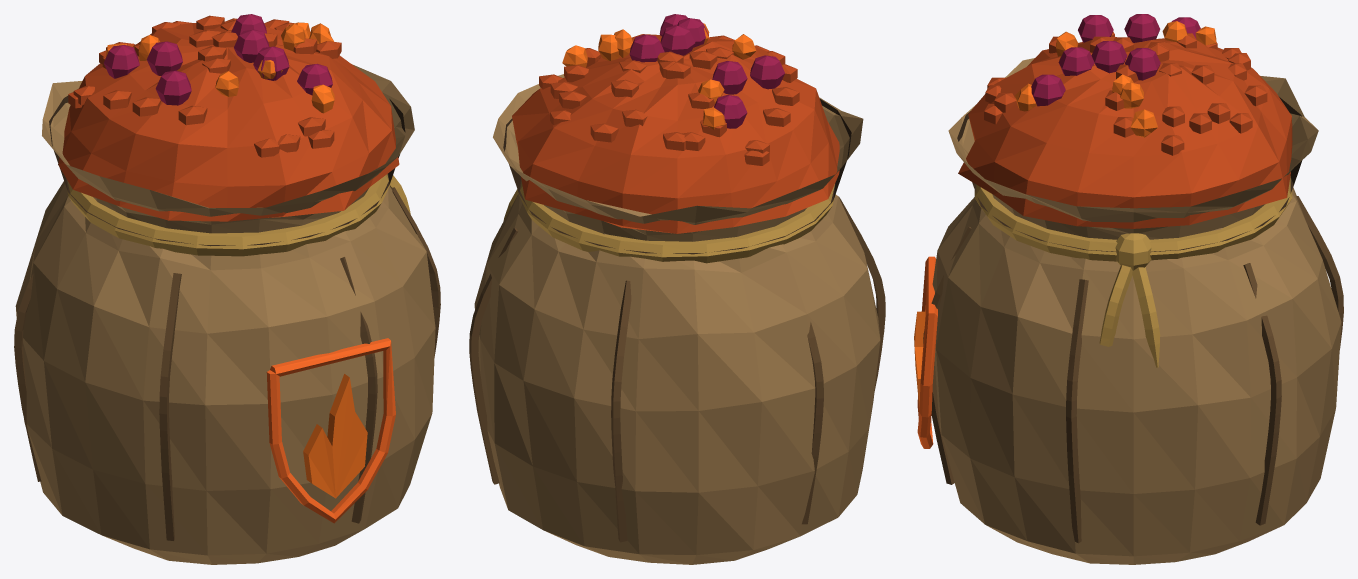
File: VFP_Feed_EmberShell.obj
3 renders of one model, left to right at view 1: azimuth 30°, elevation 25°; view 2: azimuth 150°, elevation 25°; view 3: azimuth 270°, elevation 25°, orthographic. The views are drawn at different scales.
Parts seen in each view (by area): view 1: Sack, Feed, Cord, Folds, Symbol, Berries, Symbol_ember, Embers, SackInner; view 2: Sack, Feed, Folds, Cord, Berries, Embers, SackInner; view 3: Sack, Feed, Cord, Folds, Berries, Embers, Symbol, SackInner, Symbol_ember.
Part boxes in pixels (x1,y1,x2,y2): Sack: (15,64,435,564); Feed: (58,15,399,221); Cord: (67,174,410,256); Folds: (14,187,440,540); Symbol: (266,338,395,523); Berries: (104,14,332,105); Symbol_ember: (303,374,367,498); Embers: (106,22,334,113); SackInner: (49,88,405,246); Sack: (474,74,880,564); Feed: (512,34,839,233); Folds: (469,196,885,542); Cord: (503,182,834,263); Berries: (629,14,784,128); Embers: (562,23,756,129); SackInner: (503,99,851,254); Sack: (932,58,1341,564); Feed: (958,32,1292,228); Cord: (974,176,1292,367); Folds: (923,196,1343,543); Berries: (1031,14,1200,106); Embers: (1015,21,1216,137); Symbol: (917,256,937,448); SackInner: (957,97,1302,252); Symbol_ember: (914,311,931,422).
Size of the model in its own units: 0.269 by 0.3379 by 0.2789.
